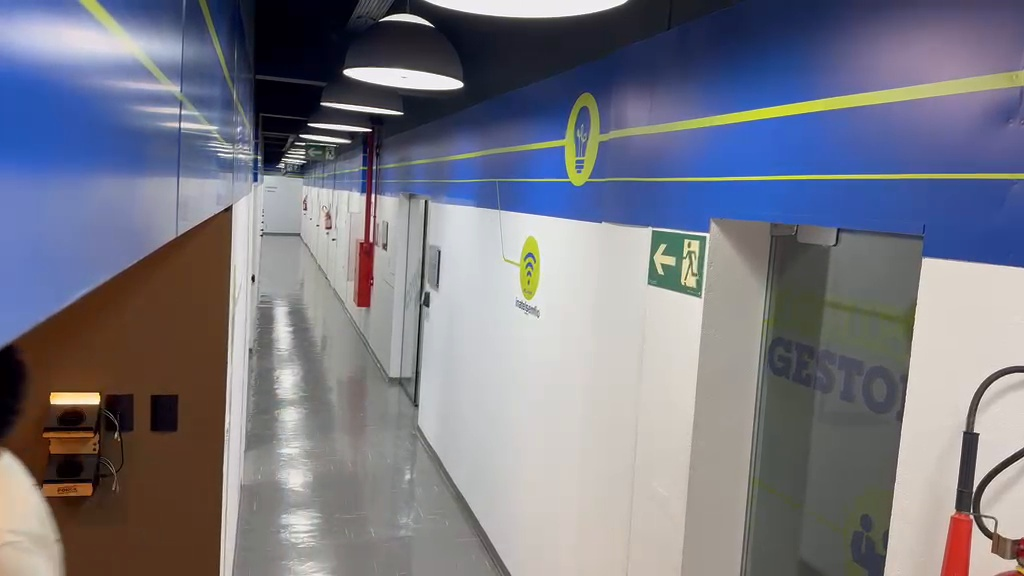person: (0, 343, 69, 571)
